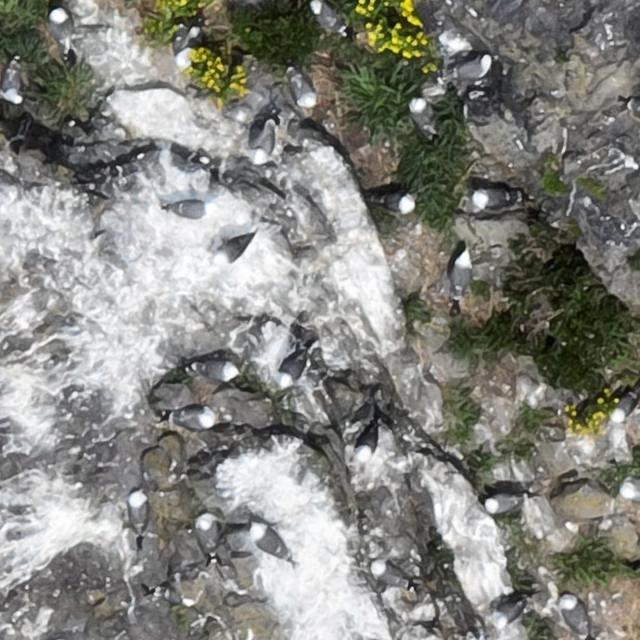umineko: (194, 514, 227, 566), (253, 529, 286, 558), (562, 599, 586, 634), (452, 58, 490, 80), (310, 2, 338, 31), (451, 255, 470, 292), (3, 66, 23, 101), (280, 356, 305, 384), (472, 190, 510, 208), (200, 362, 236, 381), (293, 76, 315, 107), (253, 126, 273, 160), (48, 8, 68, 42), (411, 101, 432, 133), (218, 238, 248, 260), (128, 494, 146, 528), (487, 495, 519, 514), (372, 565, 402, 585), (180, 410, 213, 428), (614, 394, 636, 420), (359, 428, 378, 458), (173, 201, 208, 217), (384, 194, 415, 212), (158, 588, 190, 605), (178, 27, 199, 49)
